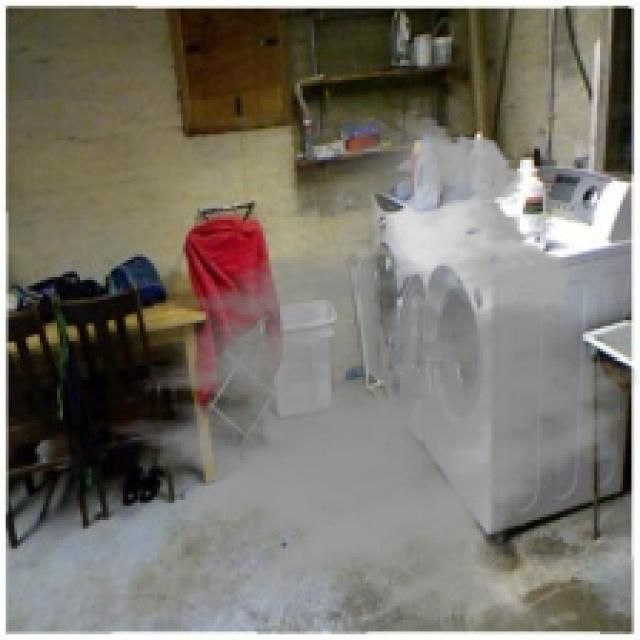smoke: (86, 109, 637, 626)
